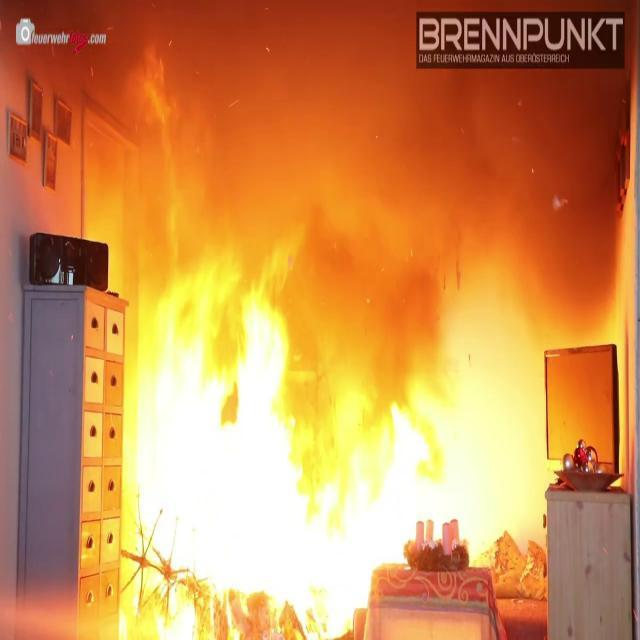Fire: (122, 144, 552, 611)
